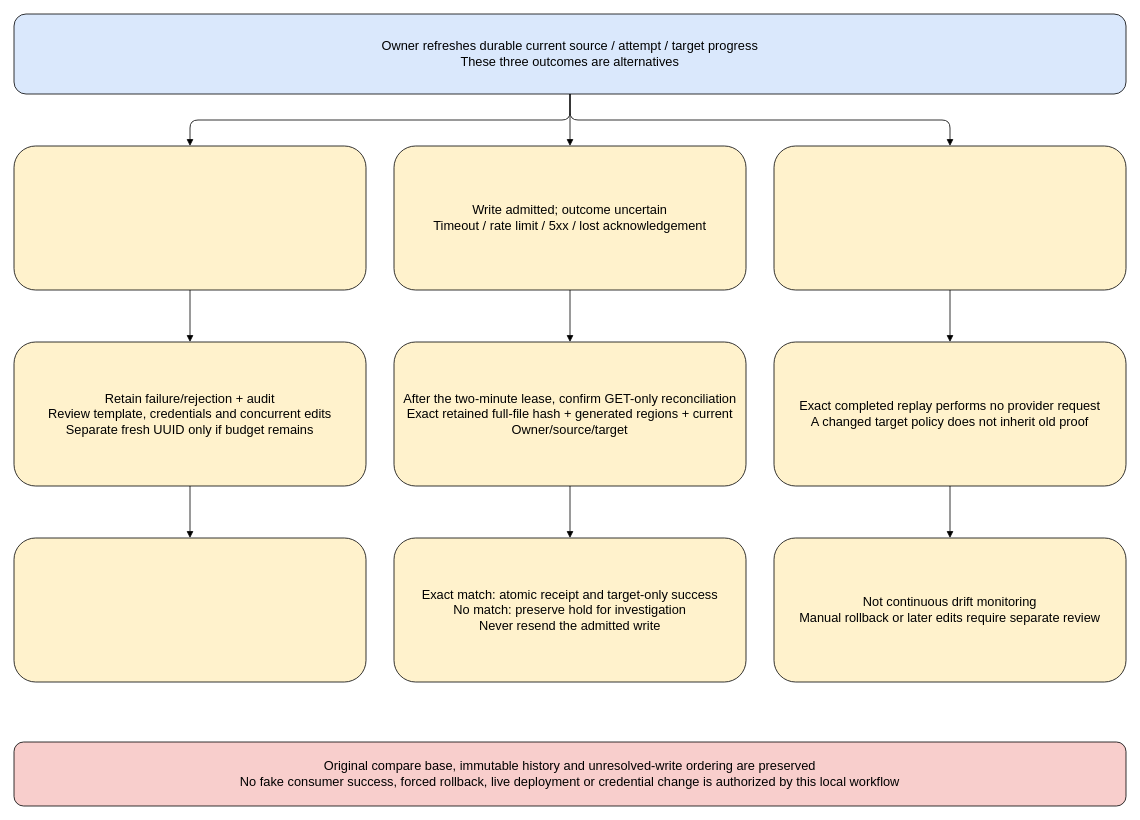
Some shapes in this 1140 by 820 pixel diagram are drawn without their labels. Each missing label, with the centre of its shape:
"Delivery already completed Immutable historical receipt retained" belongs at point 949,217.
"Preparation never admitted a write OR trusted provider explicitly rejected it" belongs at point 189,217.
"Three lifetime claims maximum No deletion, counter reset or automatic rebase" belongs at point 189,609.
